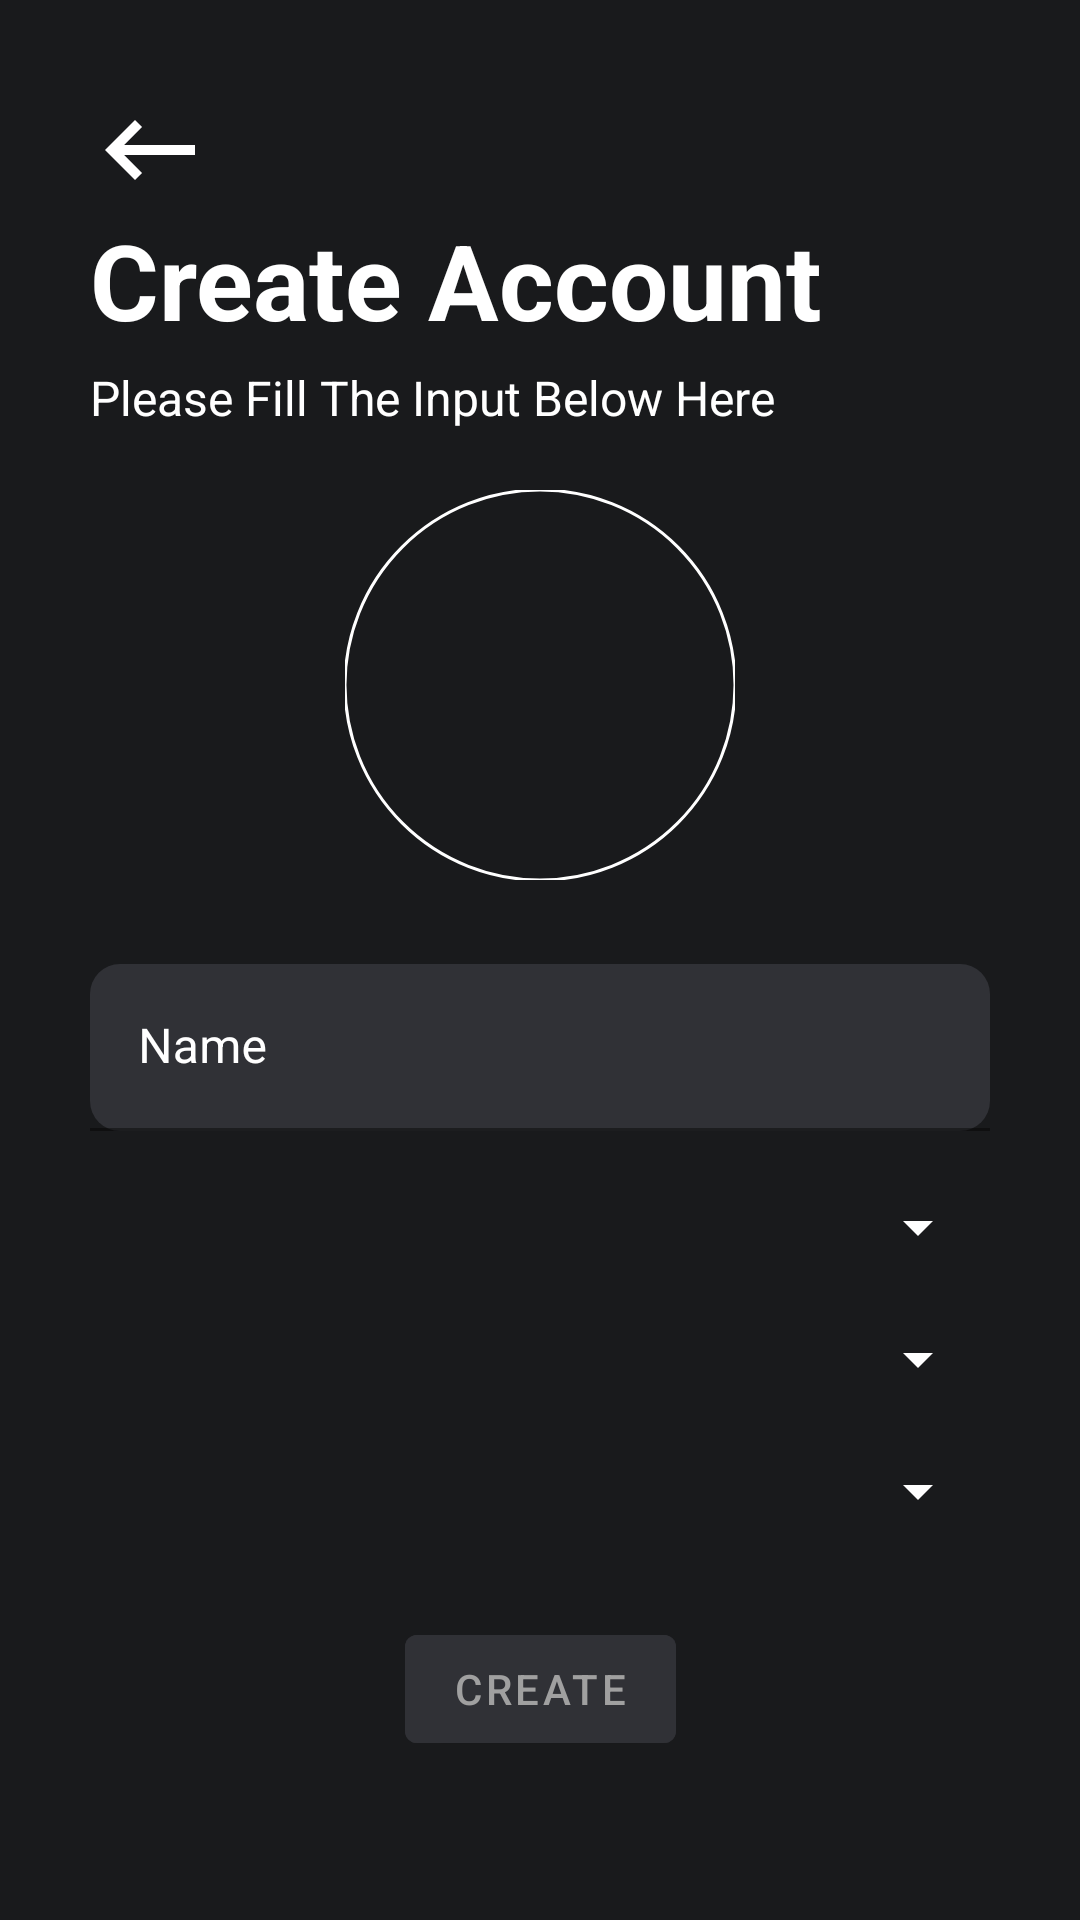

Icons on this 1080px x 1920px Android screen, each with the point to tap as [x,y]:
back: [150,150]
